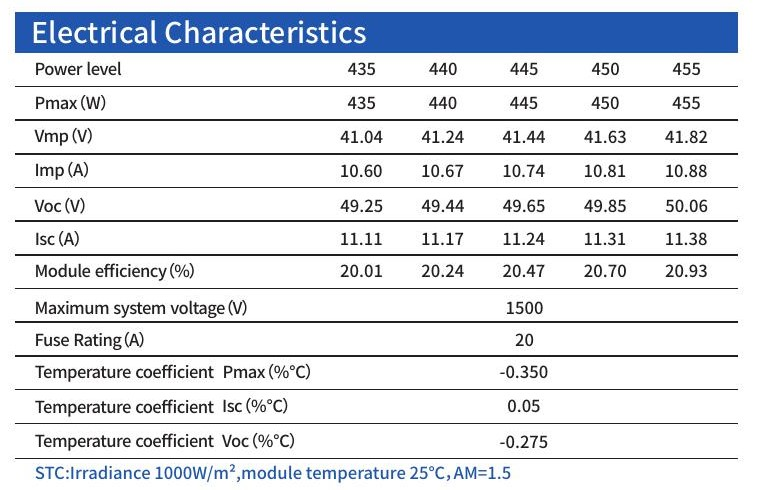table: (2, 41, 759, 468)
table column: (23, 50, 319, 462), (656, 46, 733, 466), (490, 45, 567, 464), (409, 47, 483, 464), (576, 45, 643, 465), (330, 47, 397, 463)
table row: (14, 427, 748, 457), (16, 55, 736, 84), (14, 393, 747, 420), (14, 360, 745, 387), (14, 191, 744, 218), (13, 225, 741, 252), (15, 292, 742, 319), (15, 158, 741, 185), (14, 259, 740, 286), (16, 124, 739, 151), (16, 90, 738, 117), (15, 326, 743, 352)
table spanning cell: (327, 426, 737, 457), (326, 360, 738, 390), (325, 324, 741, 353), (326, 291, 738, 319), (326, 394, 740, 420)
